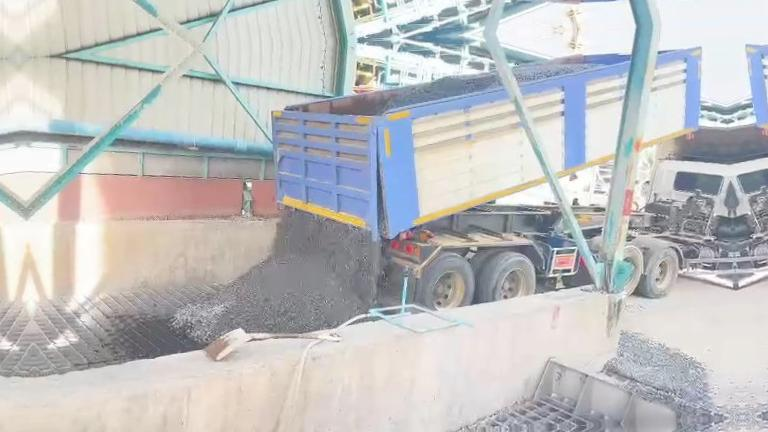gravel: (171, 209, 379, 343), (605, 332, 742, 418), (377, 71, 502, 114), (513, 63, 601, 84)
